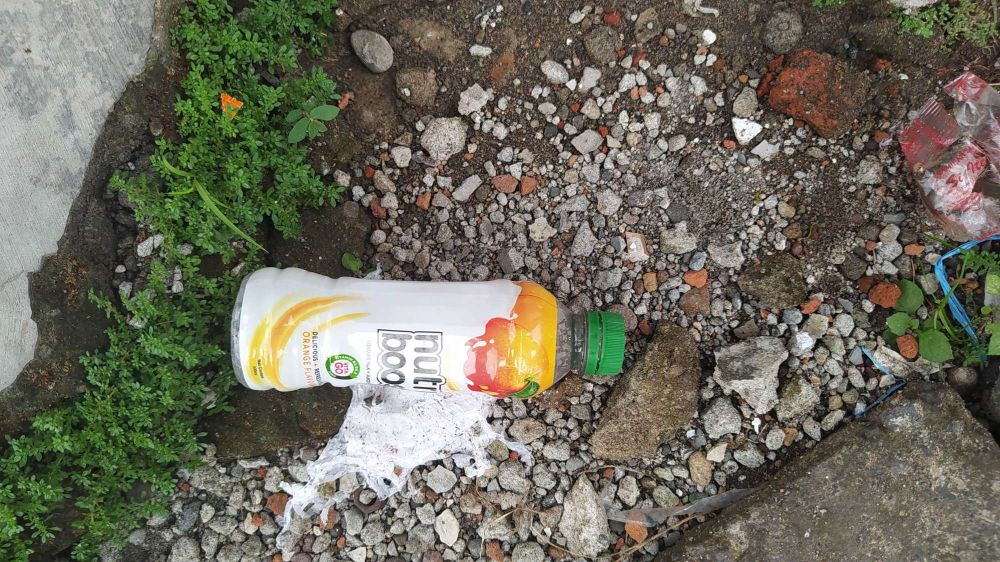botol: (201, 224, 631, 438)
